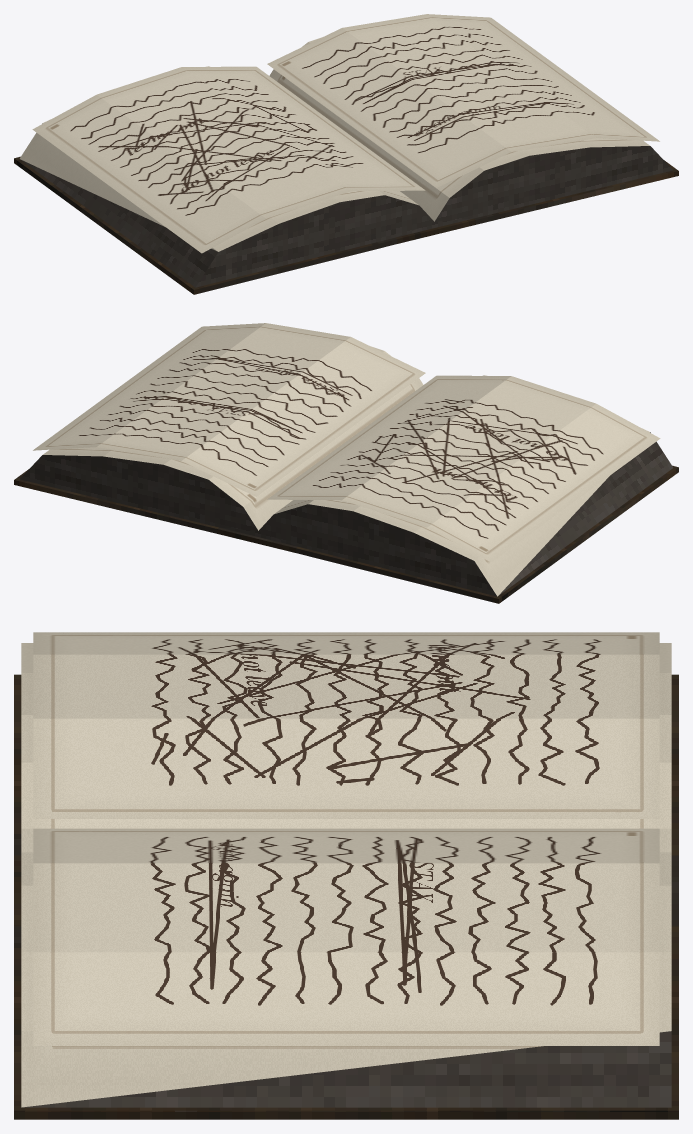
File: blender_ghost_writing_book_1_open_frantic_scrawls.glb
The picture shows the model from 3 angles, top to bottom: view 1: azimuth 30°, elevation 25°; view 2: azimuth 150°, elevation 25°; view 3: azimuth 270°, elevation 25°; orthographic projection. The views are drawn at different scales.
Visible parts, largest first — view 1: blender_ghost_writing_book_1_open_frantic_scrawls; view 2: blender_ghost_writing_book_1_open_frantic_scrawls; view 3: blender_ghost_writing_book_1_open_frantic_scrawls.
Part boxes in pixels (<box>): blender_ghost_writing_book_1_open_frantic_scrawls: <box>14,14,678,294</box>; blender_ghost_writing_book_1_open_frantic_scrawls: <box>14,323,678,603</box>; blender_ghost_writing_book_1_open_frantic_scrawls: <box>14,632,678,1119</box>.
Bounding box in the file's own units: 0.37 × 0.044 × 0.2378.
2 materials, 2 textured.
